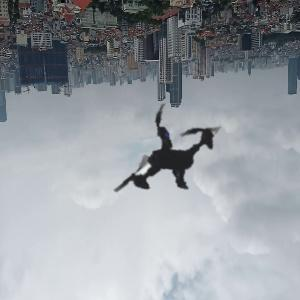drone: (69, 61, 261, 253)
